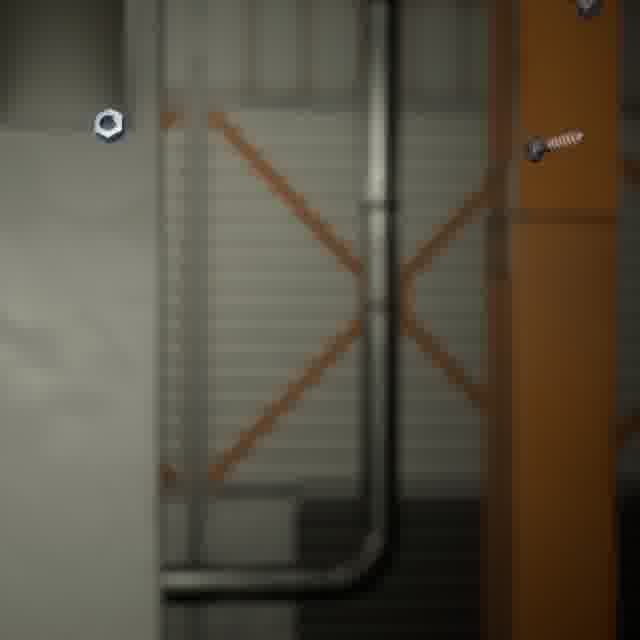bolt: (518, 125, 588, 166), (562, 0, 607, 25)
nut: (88, 104, 129, 147)
